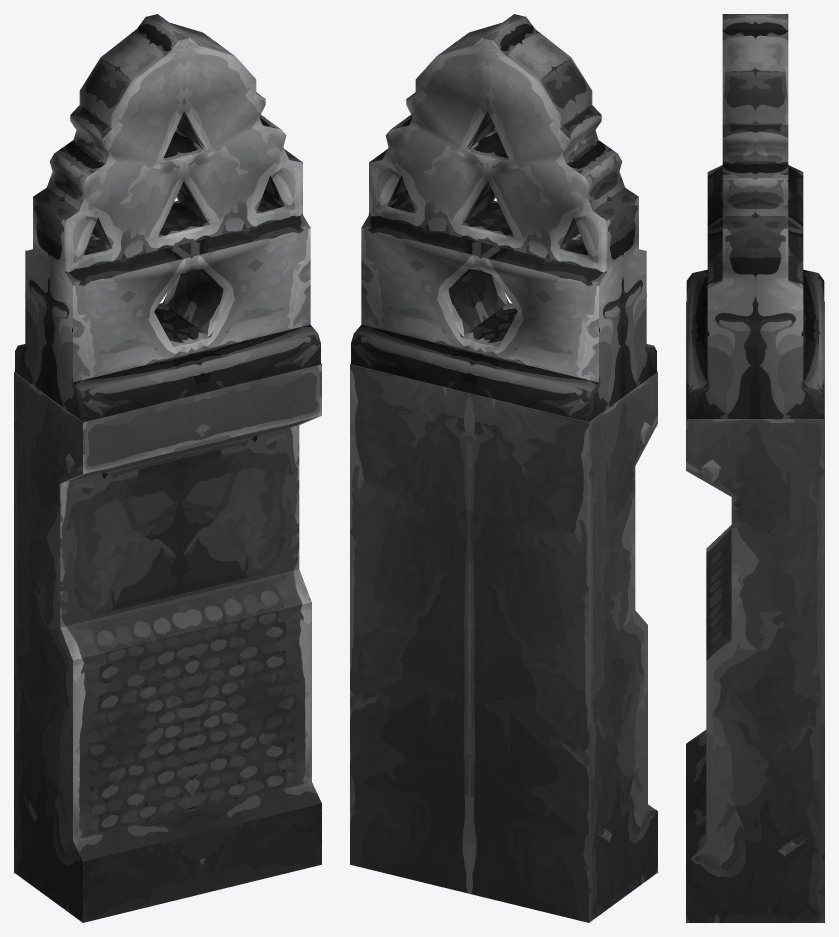
File: VV-WalakuluBemma-1.fbx
3 renders of one model, left to right at view 1: azimuth 30°, elevation 25°; view 2: azimuth 150°, elevation 25°; view 3: azimuth 270°, elevation 25°, orthographic.
Parts seen in each view (by area): view 1: WalakuluBemmaBuild-1; view 2: WalakuluBemmaBuild-1; view 3: WalakuluBemmaBuild-1.
Boxes of the visible parts, <box> form: WalakuluBemmaBuild-1: <box>14,14,321,922</box>; WalakuluBemmaBuild-1: <box>350,14,657,922</box>; WalakuluBemmaBuild-1: <box>686,14,824,922</box>.
Bounding box in the file's own units: 1 × 3.36 × 0.5.
